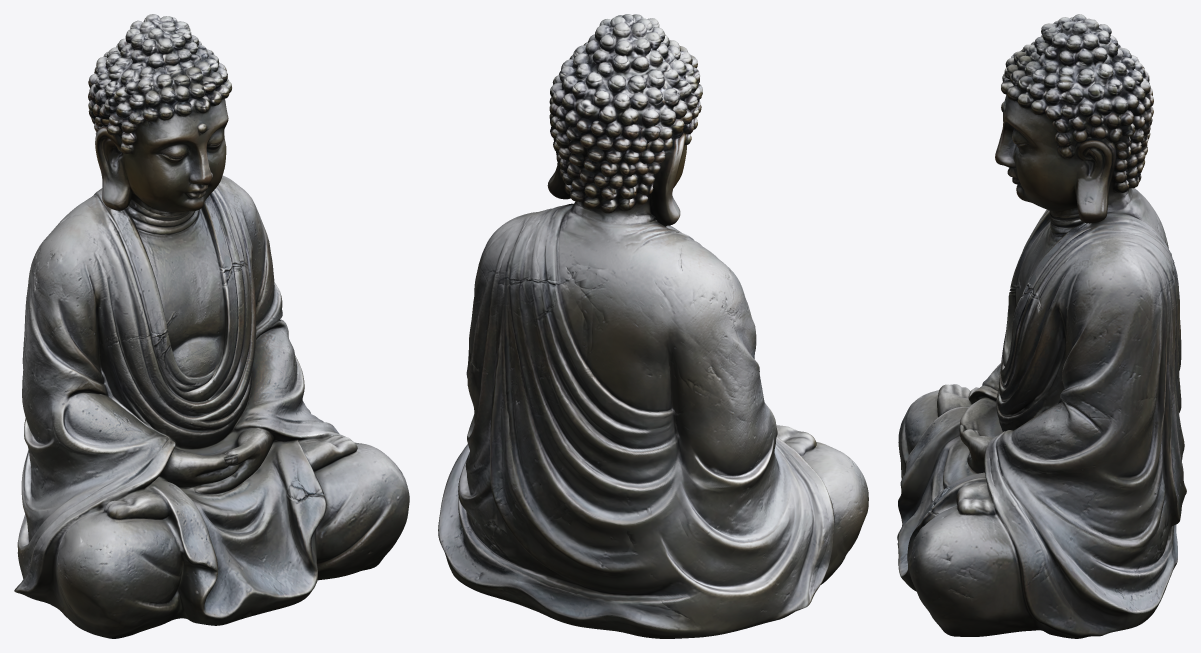
File: buddha_1.glb
3 renders of one model, left to right at view 1: azimuth 30°, elevation 25°; view 2: azimuth 150°, elevation 25°; view 3: azimuth 270°, elevation 25°, orthographic. The views are drawn at different scales.
Visible parts, largest first — view 1: tripo_node_2fbb4856-4c08-4d41-9417-c778061a5688; view 2: tripo_node_2fbb4856-4c08-4d41-9417-c778061a5688; view 3: tripo_node_2fbb4856-4c08-4d41-9417-c778061a5688.
Part boxes in pixels (x1=…): tripo_node_2fbb4856-4c08-4d41-9417-c778061a5688: x1=14, y1=14, x2=409, y2=638; tripo_node_2fbb4856-4c08-4d41-9417-c778061a5688: x1=438, y1=14, x2=868, y2=638; tripo_node_2fbb4856-4c08-4d41-9417-c778061a5688: x1=897, y1=14, x2=1186, y2=638.
Size of the model in its own units: 0.653 by 0.9797 by 0.4753.
1 material, 1 textured.
